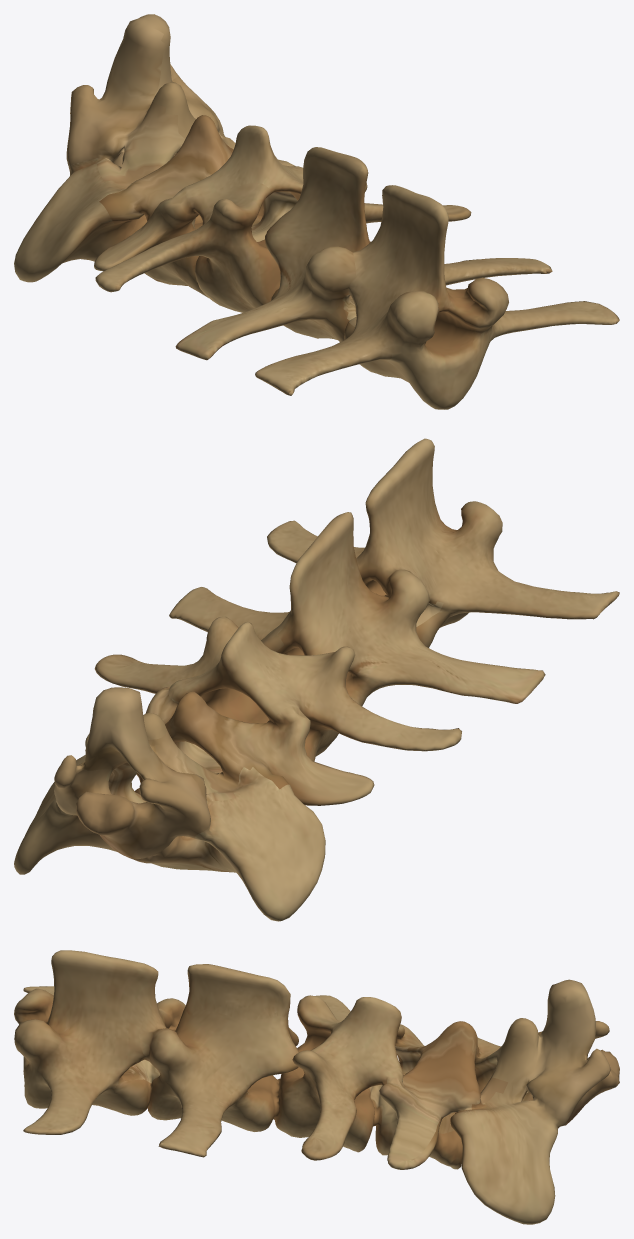
File: Lumbar_Vertebrae_Combined.glb
The picture shows the model from 3 angles, top to bottom: view 1: azimuth 30°, elevation 25°; view 2: azimuth 150°, elevation 25°; view 3: azimuth 270°, elevation 25°; orthographic projection. The views are drawn at different scales.
Parts seen in each view (by area): view 1: Group59787; view 2: Group59787; view 3: Group59787.
Part boxes in pixels (box(x1,y1,x2,y2)): Group59787: box(14, 14, 619, 409); Group59787: box(14, 438, 619, 921); Group59787: box(14, 950, 619, 1224).
Size of the model in its own units: 137 by 93.9 by 233.
Materials: 1 (1 with a texture image).
